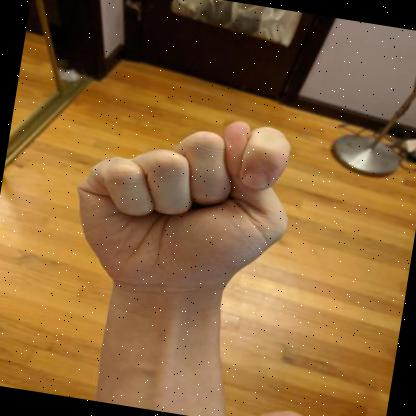T: (76, 120, 290, 308)
